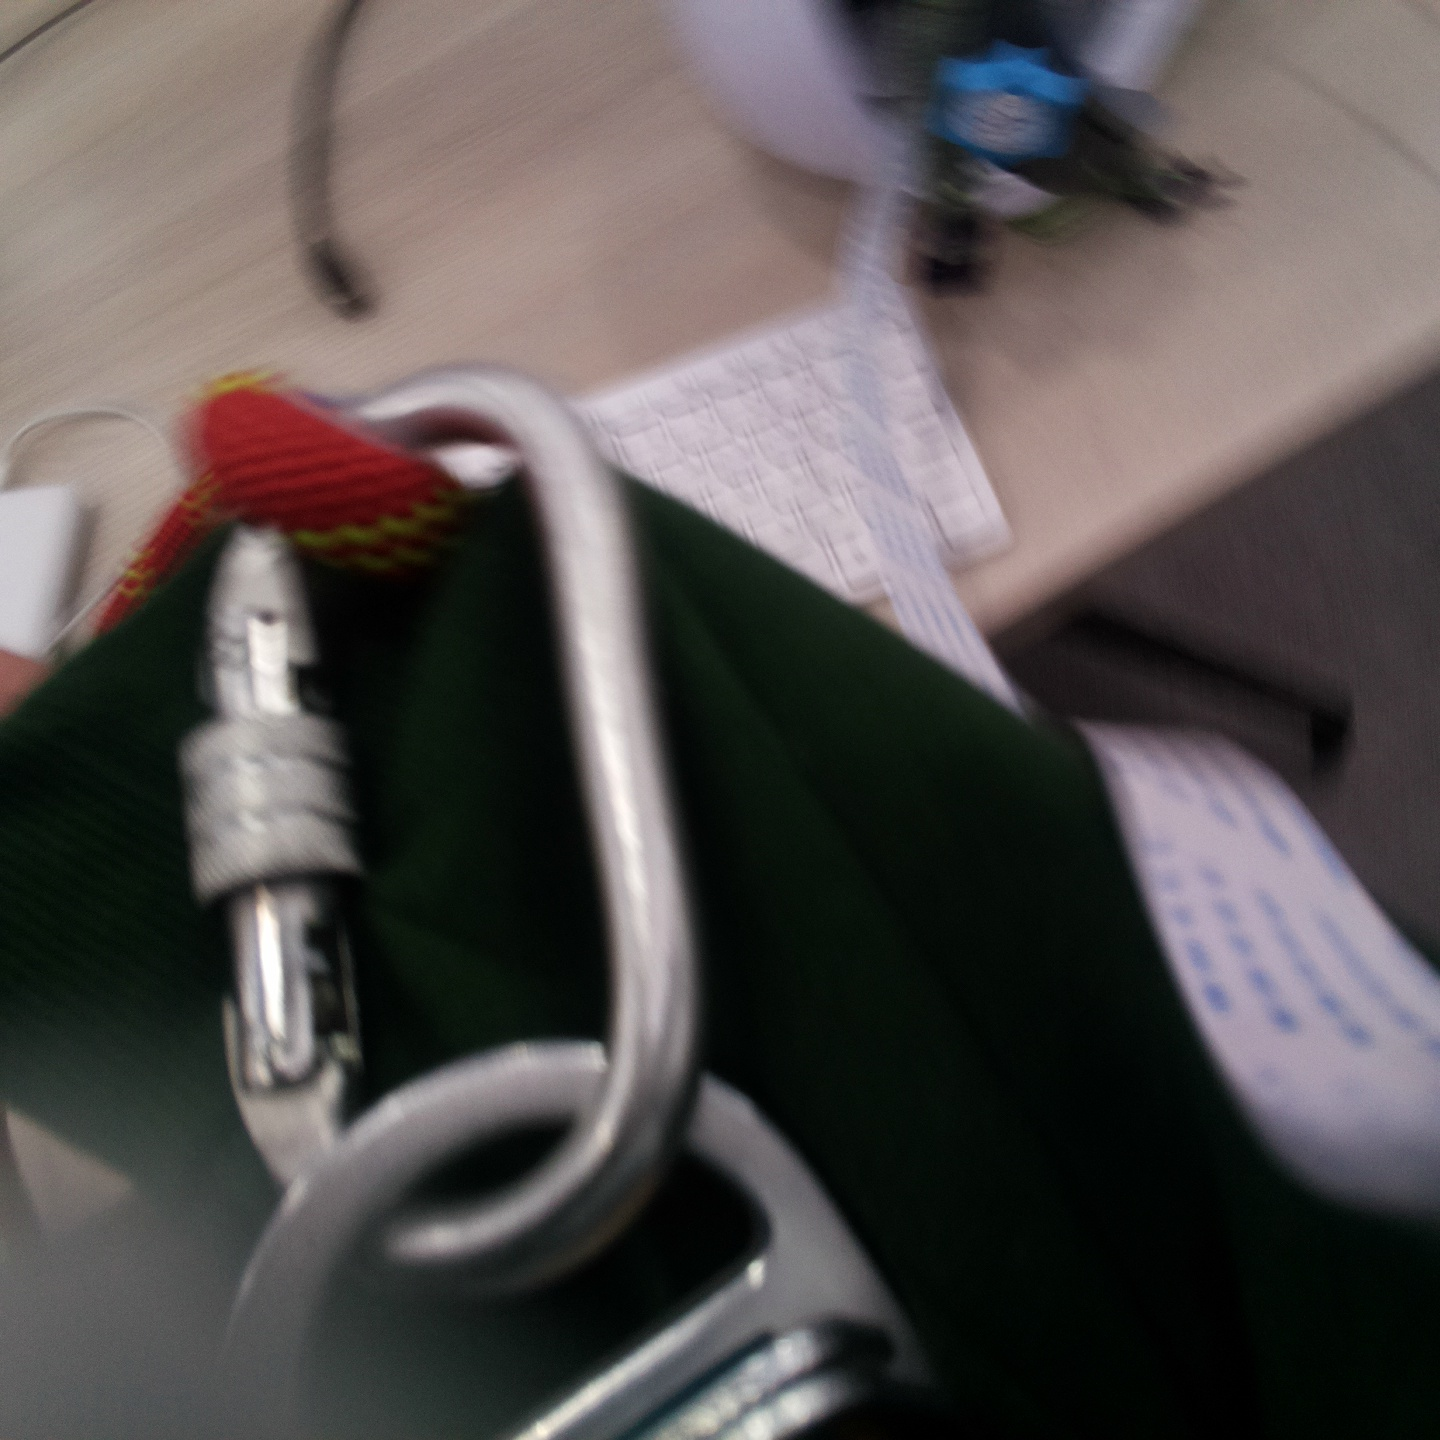SUCCESS: (167, 665, 727, 1033)
